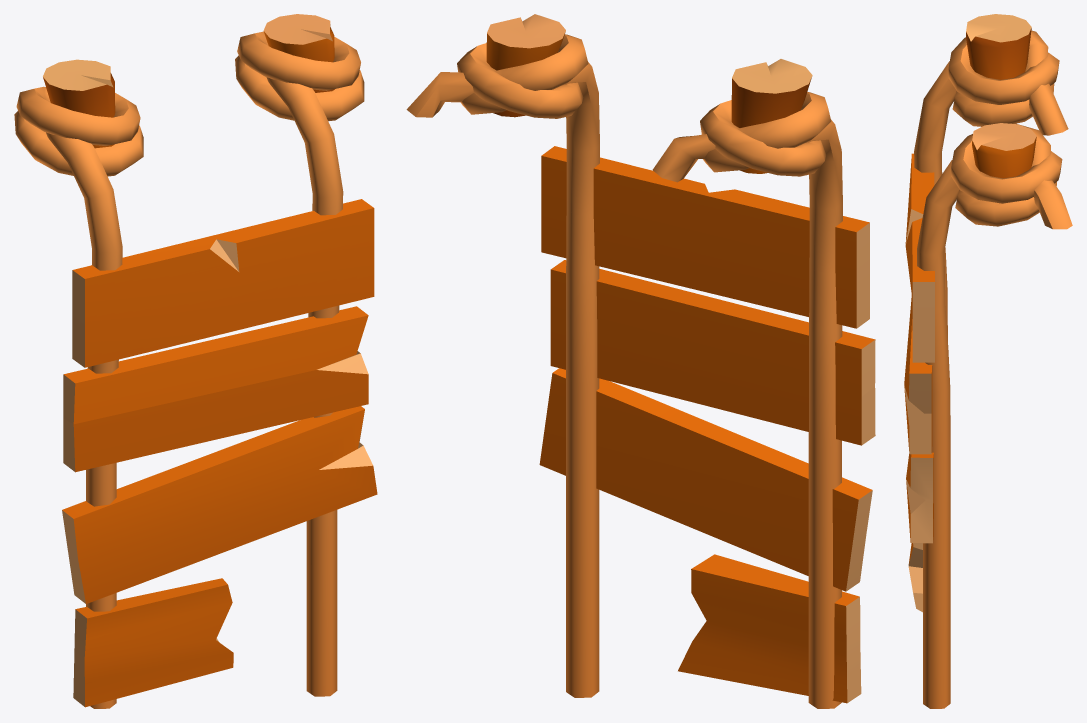
Rendered from Prop_Broken_Rope_Bridge_01.fbx.
The picture shows the model from 3 angles, left to right: view 1: azimuth 30°, elevation 25°; view 2: azimuth 150°, elevation 25°; view 3: azimuth 270°, elevation 25°; orthographic projection. The views are drawn at different scales.
Visible parts, largest first — view 1: Prop_Broken_Rope_Bridge_01; view 2: Prop_Broken_Rope_Bridge_01; view 3: Prop_Broken_Rope_Bridge_01.
Boxes of the visible parts, bbox=[...] form: Prop_Broken_Rope_Bridge_01: bbox=[14, 14, 377, 708]; Prop_Broken_Rope_Bridge_01: bbox=[406, 14, 875, 708]; Prop_Broken_Rope_Bridge_01: bbox=[904, 14, 1072, 708].
Size of the model in its own units: 127 by 222 by 58.1.
